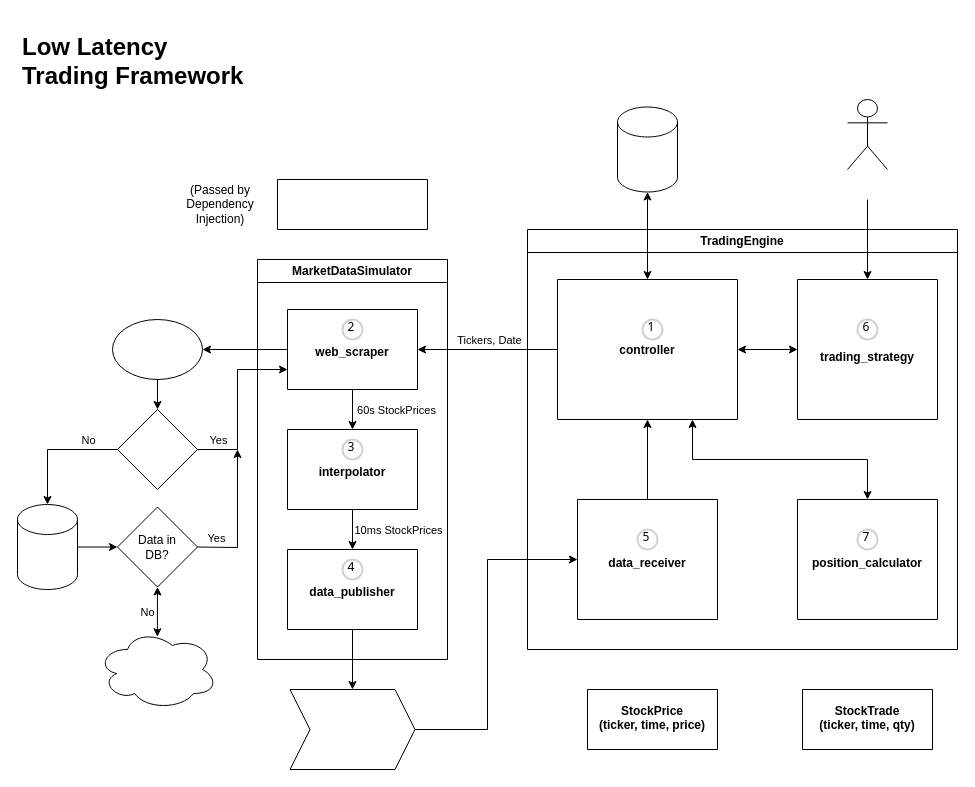
The diagram is 975 pixels wide and 787 high, and some of its shapes have lost their labels. Here are the shapes that lost their labels. From the top down, the centre of each, then its label:
(x=647, y=149): trades.db
(x=867, y=134): Trader
(x=352, y=204): performance_profiler
(x=157, y=349): prices cache (Redis)
(x=157, y=449): Data in cache?
(x=47, y=547): prices.db
(x=157, y=669): Exchange API
(x=352, y=729): Kafka Queue (prices)
